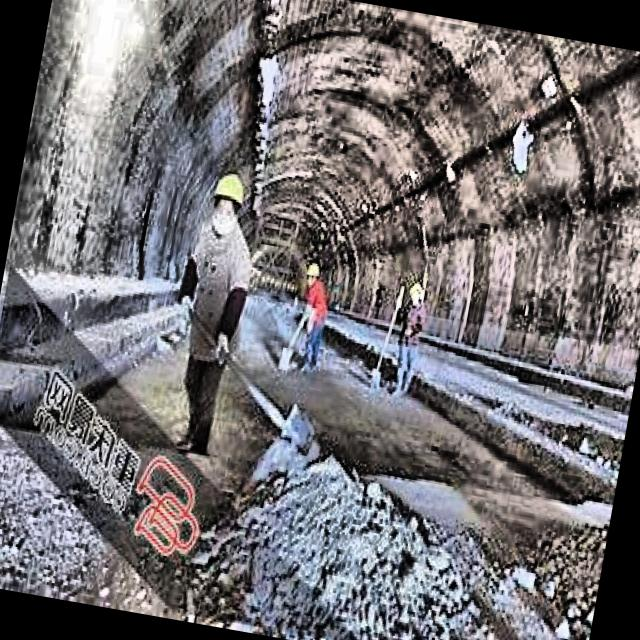helmet: (206, 166, 249, 234), (301, 254, 326, 294)
